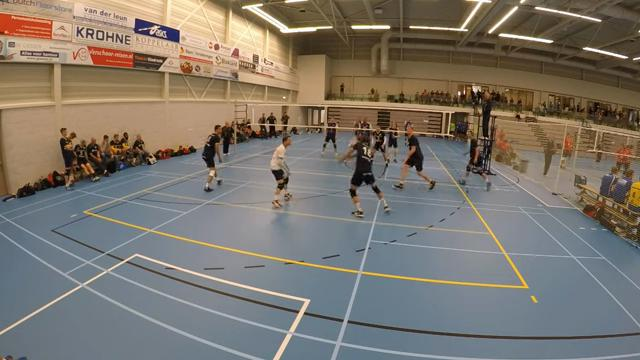ricezione: (333, 132, 394, 221)
